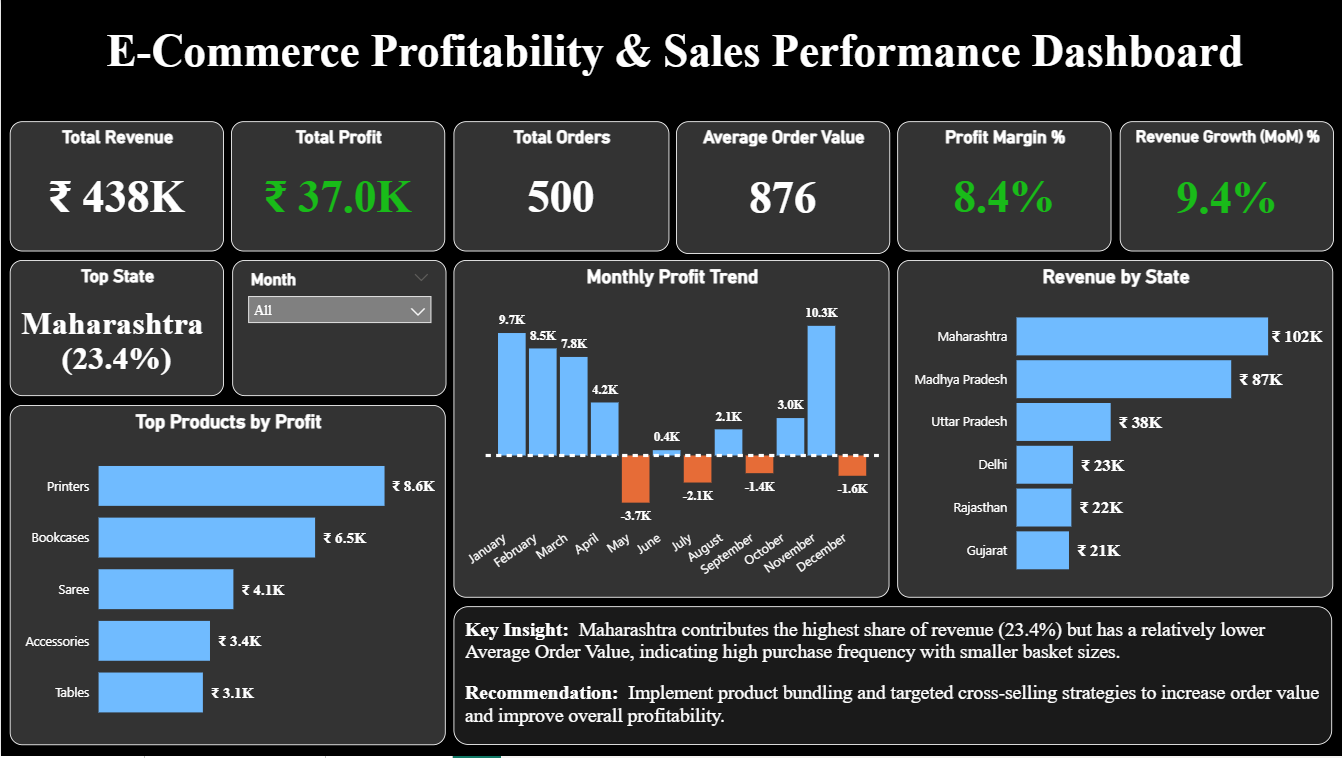

What the dashboard file says about the page in this screenshot:
{"tool":"powerbi","page":{"name":"Executive Overview","canvas":[1280,720],"ordinal":0},"visuals":[{"type":"textbox","box":[15.5,19,1252.4,83.3],"z":0},{"type":"card","title":"Total Profit","fields":{"Values":["Details.Total Profitt"]},"box":[219.5,115.3,204.1,123.7],"z":1000},{"type":"card","title":"Average Order Value","fields":{"Values":["Details.AOV"]},"box":[642.9,115.3,204.1,126.1],"z":2000},{"type":"clusteredBarChart","title":"Revenue by State","fields":{"Category":["Orders.State"],"Y":["NewMeasure1.Total Revenue"]},"box":[853.7,247.4,415.5,321.8],"z":3000},{"type":"clusteredBarChart","title":"Top Products by Profit","fields":{"Category":["Details.Sub-Category"],"Y":["NewMeasure1.Total Profit"]},"box":[8.4,385.4,415.5,324.2],"z":4000},{"type":"clusteredColumnChart","title":"Monthly Profit Trend","fields":{"Category":["DateTable.Month Name"],"Y":["Sum(Details.Profit)"]},"box":[431.1,247.4,415.5,321.8],"z":5000},{"type":"card","title":"Total Revenue","fields":{"Values":["NewMeasure.Total Revenue"]},"box":[8.4,115.3,204.1,123.7],"z":6000},{"type":"card","title":"Profit Margin %","fields":{"Values":["Details.Profit Margin%"]},"box":[854,115.3,204.1,123.7],"z":7000},{"type":"card","title":"Total Orders","fields":{"Values":["Details.Total Orders"]},"box":[430.6,115.3,205.3,123.7],"z":8000},{"type":"slicer","fields":{"Values":["DateTable.Date.Variation.Date Hierarchy.Month"]},"box":[219.7,247.4,204.1,129.7],"z":9000},{"type":"textbox","box":[431.1,577.6,836.9,132.1],"z":10000},{"type":"card","title":"Revenue Growth (MoM) %","fields":{"Values":["NewMeasure.MoM Growth %"]},"box":[1065.1,115.3,204.1,123.7],"z":11000},{"type":"card","title":"Top State","fields":{"Values":["NewMeasure.Top State Summary"]},"box":[8.4,247.4,204.1,129.7],"z":12000}]}

Visuals, with their boxes in screenshot pixels (x1, y1, x2, y2), scaled from the page's 1280x720 canvas onto the 1342x758 screenshot:
textbox: <region>16, 20, 1329, 108</region>
"Total Profit" card: <region>230, 121, 444, 252</region>
"Average Order Value" card: <region>674, 121, 888, 254</region>
"Revenue by State" clusteredBarChart: <region>895, 260, 1331, 599</region>
"Top Products by Profit" clusteredBarChart: <region>9, 406, 444, 747</region>
"Monthly Profit Trend" clusteredColumnChart: <region>452, 260, 888, 599</region>
"Total Revenue" card: <region>9, 121, 223, 252</region>
"Profit Margin %" card: <region>895, 121, 1109, 252</region>
"Total Orders" card: <region>451, 121, 667, 252</region>
slicer - DateTable.Date.Variation.Date Hierarchy.Month: <region>230, 260, 444, 397</region>
textbox: <region>452, 608, 1329, 747</region>
"Revenue Growth (MoM) %" card: <region>1117, 121, 1331, 252</region>
"Top State" card: <region>9, 260, 223, 397</region>
